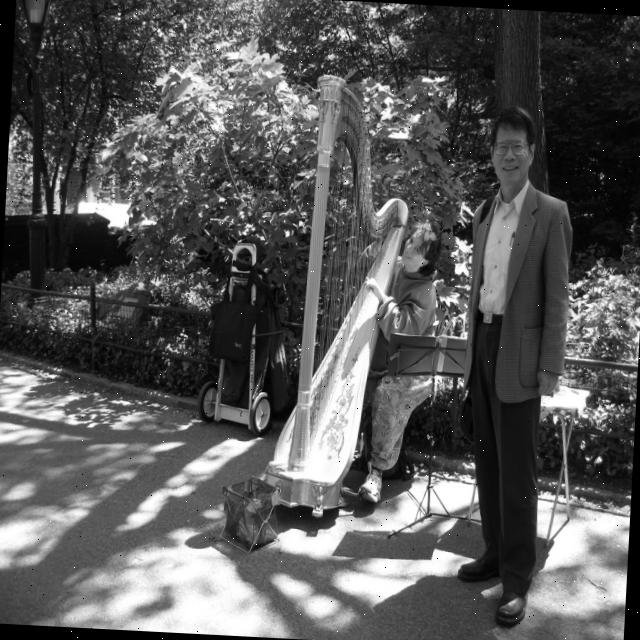harp: (262, 72, 417, 518)
